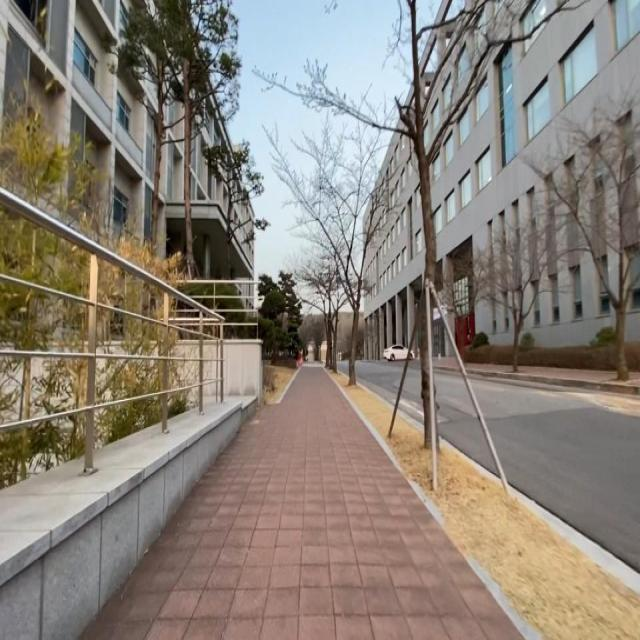sidewalk: (78, 365, 526, 640), (518, 366, 640, 386), (464, 363, 513, 373), (435, 357, 459, 368)
